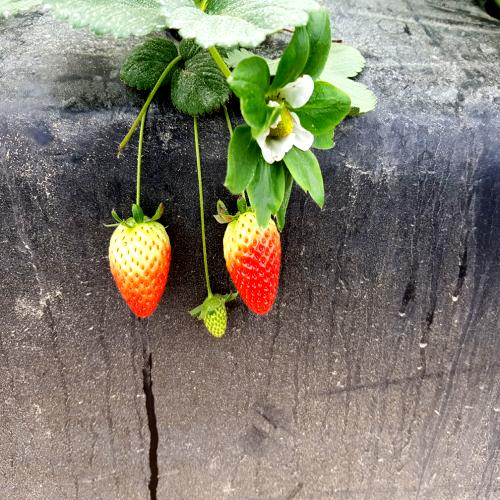partially-ripe: (108, 218, 174, 318), (223, 210, 281, 318)
